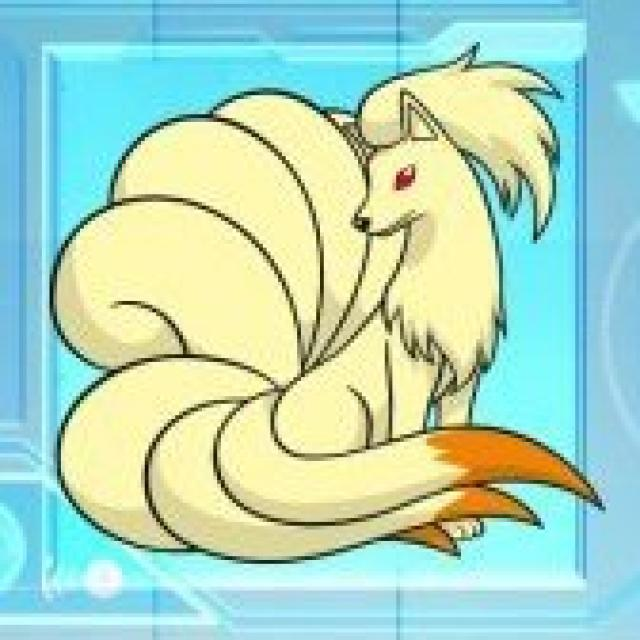Ninetales: (44, 50, 606, 584)
